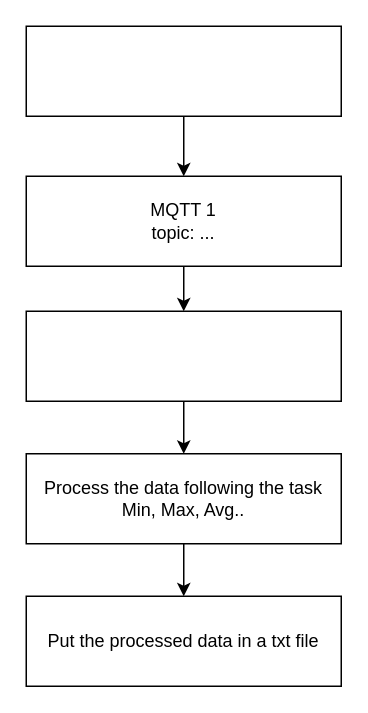
Image size: 368x713. Some labels were removed from this diagram. Each missing label, with the centre of its shape:
"C programma met data" belongs at point 183,70.
"Read data from MQTT 1" belongs at point 183,355.
